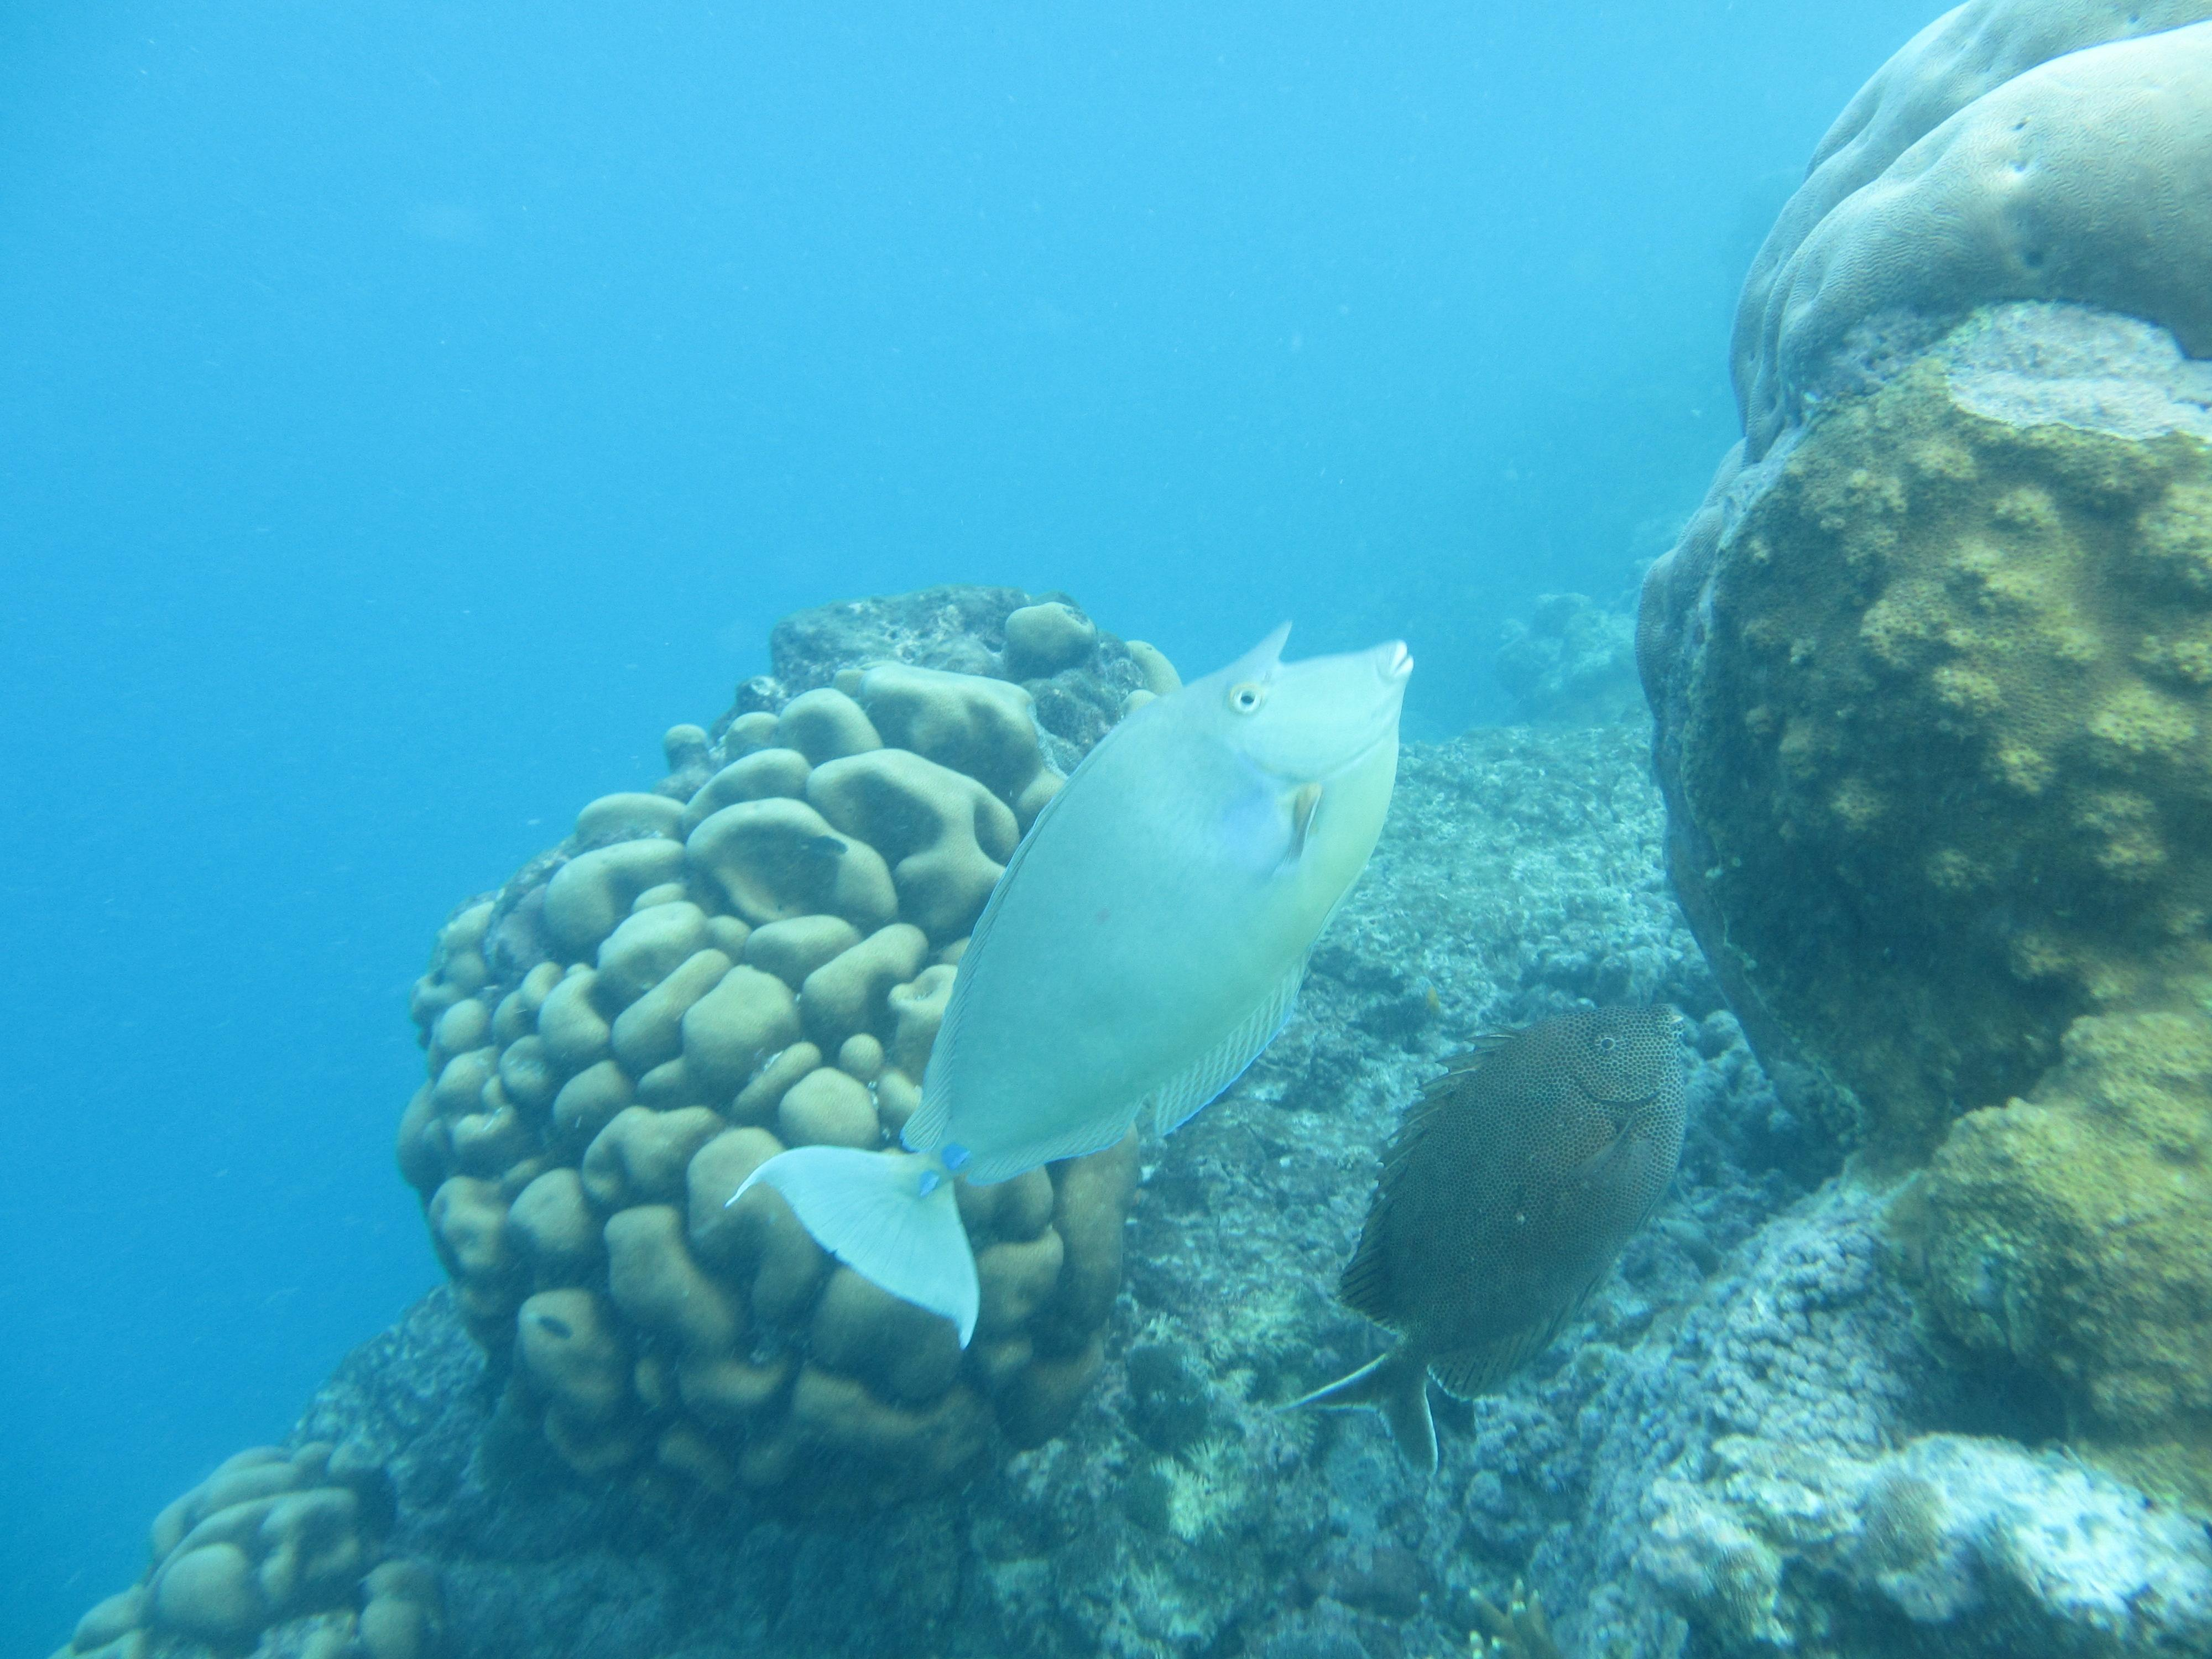Fish: (721, 598, 1425, 1358)
